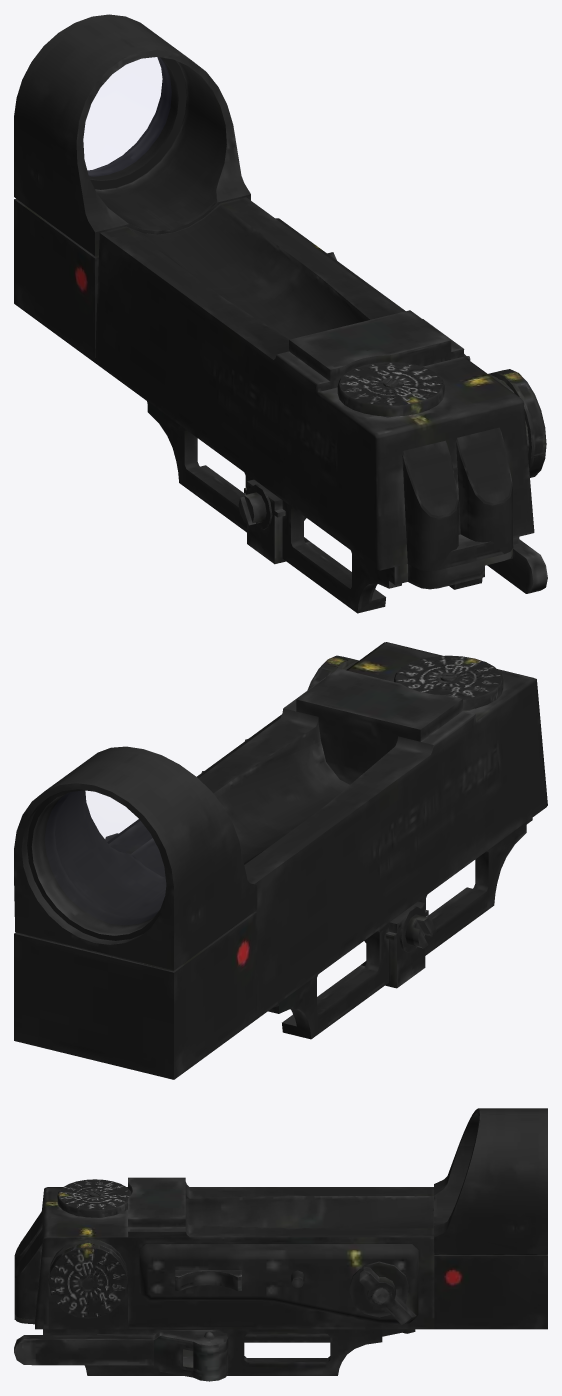
File: Red-Dot-Sight-RUSSIAN.glb
3 renders of one model, top to bottom at view 1: azimuth 30°, elevation 25°; view 2: azimuth 150°, elevation 25°; view 3: azimuth 270°, elevation 25°, orthographic. The views are drawn at different scales.
Parts seen in each view (by area): view 1: Red Dot Sight RUSSIAN; view 2: Red Dot Sight RUSSIAN; view 3: Red Dot Sight RUSSIAN.
Part boxes in pixels (left/top/right/bottom): Red Dot Sight RUSSIAN: left=14, top=14, right=547, bottom=613; Red Dot Sight RUSSIAN: left=14, top=642, right=547, bottom=1079; Red Dot Sight RUSSIAN: left=14, top=1108, right=547, bottom=1381.
Bounding box in the file's own units: 0.0454 × 0.075 × 0.1494.
Materials: 2 (1 with a texture image).
